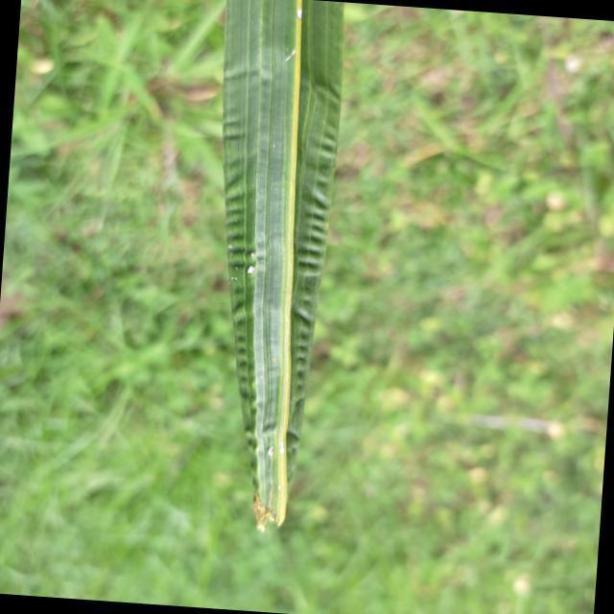Boron: (220, 0, 348, 545)
